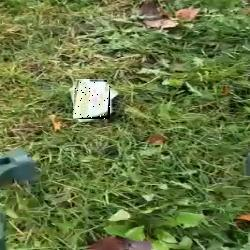restaffald: (73, 82, 110, 119)
